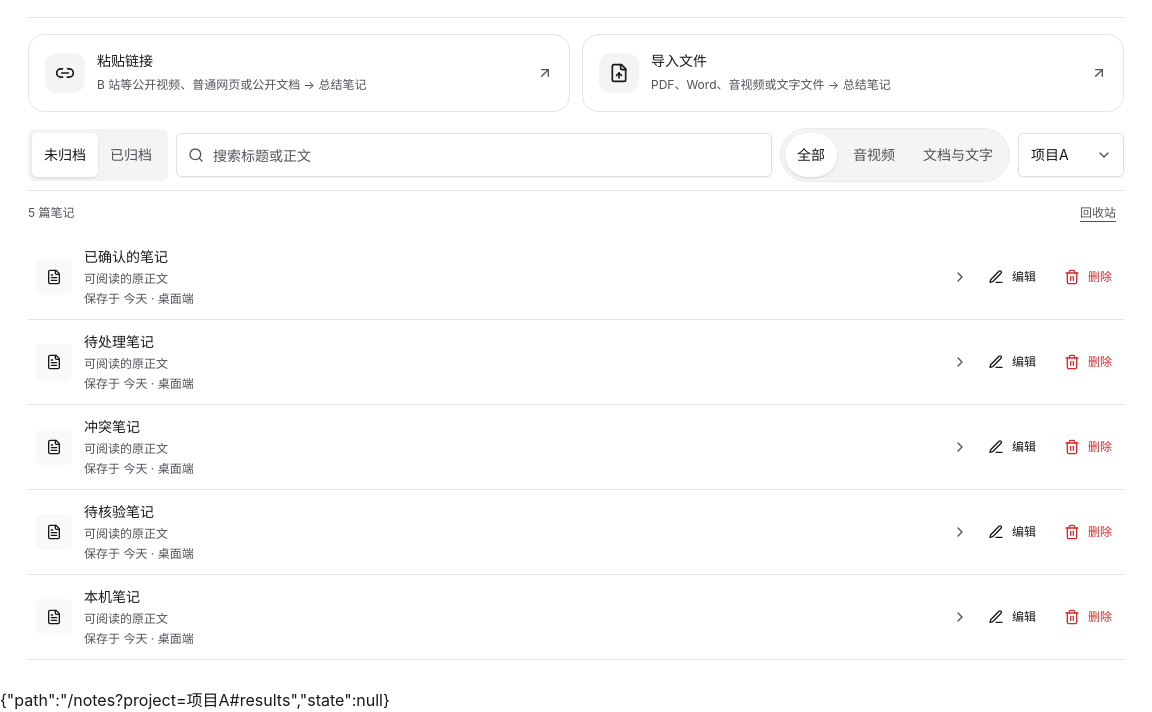
Test: canceling local trash preserves the same parent and filters without requiring sync
(page scrolled)
What coordinates should you click on to do the following:
click the button with aria-label "删除《本机笔记》"
I would click on:
 (1088, 617)
Its box is [1052,595,1124,639].
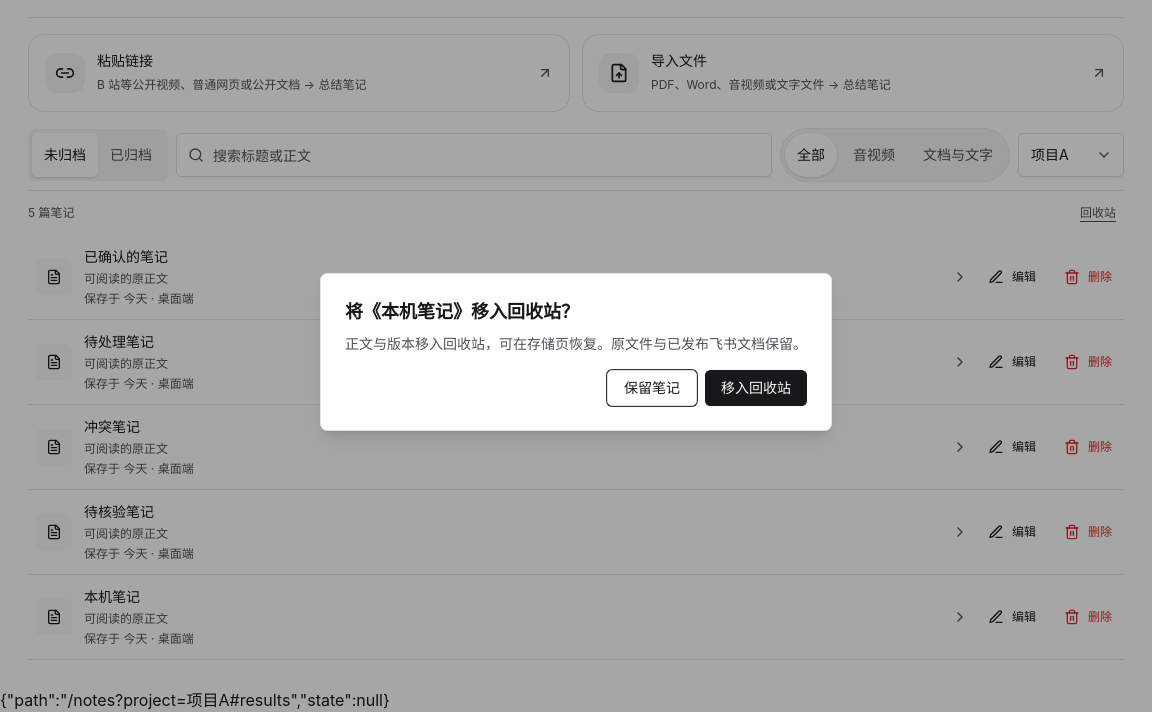
Result: the dialog shows "原文件与已发布飞书文档保留" at [345,335,807,352]
What coordinates should you click on to do the following:
click the button "保留笔记"
I would click on:
 (652, 388)
Its box is [607,370,697,406].
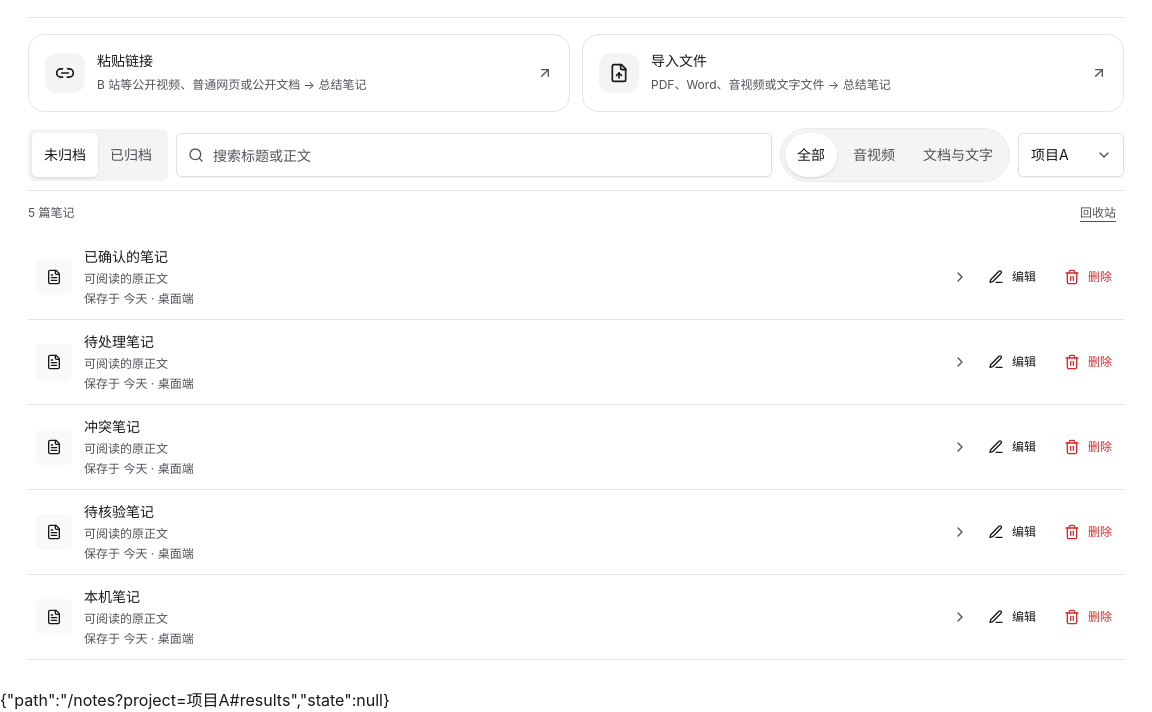
Result: the dialog is gone
